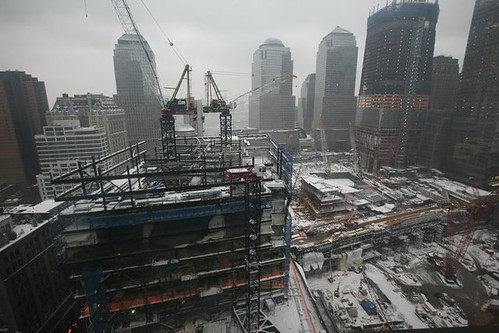building: (62, 139, 284, 333), (354, 1, 440, 166), (44, 98, 129, 192), (111, 36, 164, 154), (312, 26, 357, 140), (251, 40, 295, 145)
crane: (101, 1, 194, 160), (200, 71, 301, 151)
